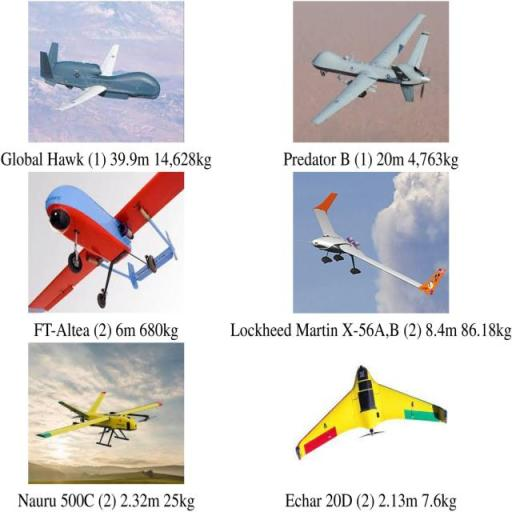uav: (294, 171, 450, 308)
